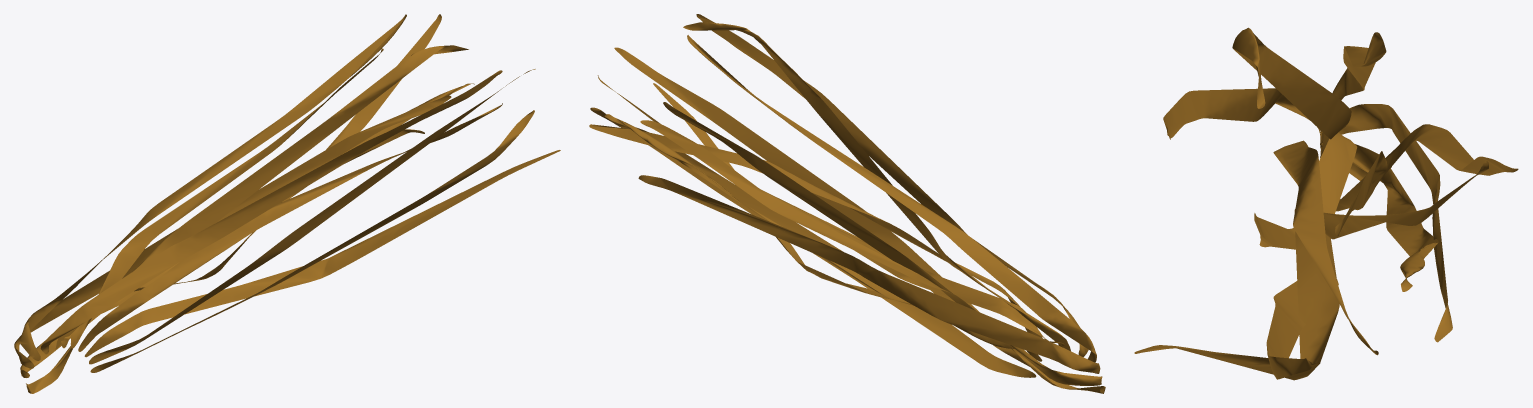
Rendered from Blades05.fbx.
3 renders of one model, left to right at view 1: azimuth 30°, elevation 25°; view 2: azimuth 150°, elevation 25°; view 3: azimuth 270°, elevation 25°, orthographic. The views are drawn at different scales.
Visible parts, largest first — view 1: polySurface127, polySurface122, polySurface126, polySurface128, polySurface123, polySurface131, polySurface121, polySurface130, polySurface120, polySurface124, polySurface129, polySurface125; view 2: polySurface129, polySurface128, polySurface121, polySurface120, polySurface131, polySurface130, polySurface126, polySurface127, polySurface123, polySurface124, polySurface125, polySurface122; view 3: polySurface122, polySurface126, polySurface123, polySurface124, polySurface129, polySurface127, polySurface125, polySurface131, polySurface120, polySurface128, polySurface130, polySurface121.
Boxes of the visible parts, left/top/right/bottom form: polySurface127: left=40, top=70, right=502, bottom=354; polySurface122: left=84, top=150, right=560, bottom=357; polySurface126: left=55, top=45, right=468, bottom=349; polySurface128: left=19, top=14, right=406, bottom=360; polySurface123: left=78, top=103, right=502, bottom=351; polySurface131: left=26, top=48, right=383, bottom=393; polySurface121: left=89, top=69, right=535, bottom=364; polySurface130: left=20, top=95, right=451, bottom=377; polySurface120: left=90, top=110, right=534, bottom=372; polySurface124: left=70, top=14, right=441, bottom=348; polySurface129: left=14, top=129, right=424, bottom=368; polySurface125: left=61, top=83, right=474, bottom=348; polySurface129: left=638, top=175, right=1100, bottom=373; polySurface128: left=687, top=35, right=1096, bottom=362; polySurface121: left=614, top=47, right=1029, bottom=366; polySurface120: left=590, top=107, right=1036, bottom=377; polySurface131: left=640, top=120, right=1105, bottom=393; polySurface130: left=663, top=102, right=1102, bottom=385; polySurface126: left=683, top=22, right=1070, bottom=351; polySurface127: left=696, top=14, right=1088, bottom=357; polySurface123: left=589, top=124, right=1042, bottom=338; polySurface124: left=597, top=75, right=1048, bottom=340; polySurface125: left=604, top=114, right=1064, bottom=348; polySurface122: left=653, top=83, right=1042, bottom=361; polySurface122: left=1134, top=209, right=1339, bottom=380; polySurface126: left=1232, top=27, right=1351, bottom=144; polySurface123: left=1273, top=140, right=1378, bottom=355; polySurface124: left=1319, top=132, right=1488, bottom=239; polySurface129: left=1321, top=104, right=1452, bottom=342; polySurface127: left=1163, top=88, right=1320, bottom=145; polySurface125: left=1320, top=141, right=1438, bottom=291; polySurface131: left=1336, top=124, right=1518, bottom=211; polySurface120: left=1266, top=279, right=1338, bottom=379; polySurface128: left=1321, top=32, right=1386, bottom=143; polySurface130: left=1321, top=151, right=1391, bottom=235; polySurface121: left=1254, top=213, right=1297, bottom=249.
Bounding box in the file's own units: 2.8 × 1.42 × 0.9144.
